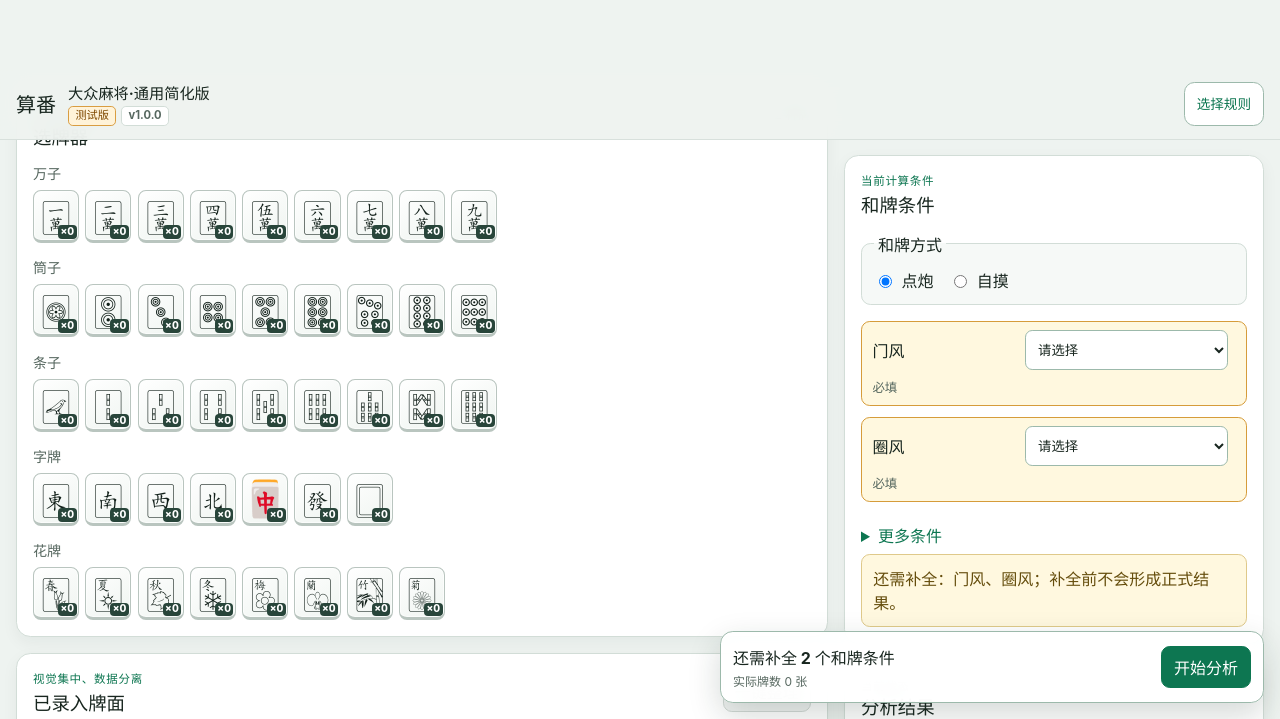
Test: CalculatorPage Batch 11 interaction › keeps flower tiles in the dynamic palette without bypassing the dedicated input flow
The width and height of the screenshot is (1280, 719).
Click the button named "春，已使用 0 张": [56, 594] box [33,568,79,620]
(page scrolled)
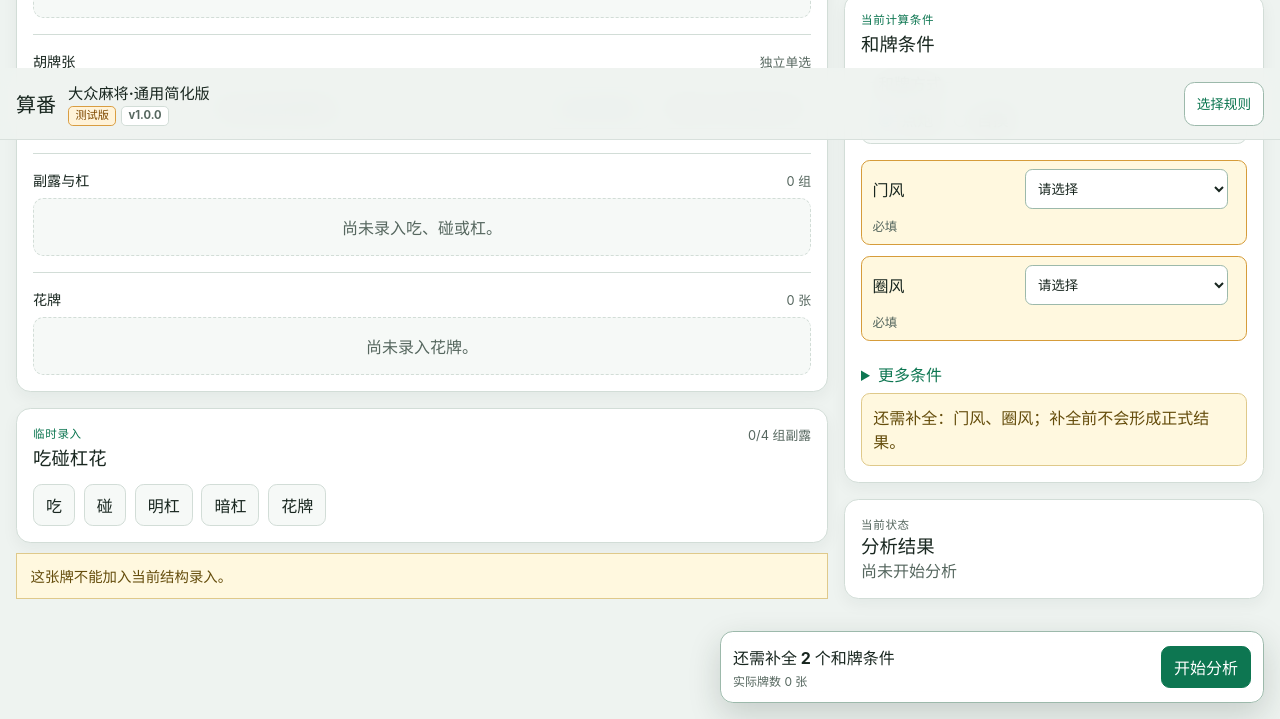
expect the message "这张牌不能加入当前结构录入。" is shown: met, box [16,553,828,599]
